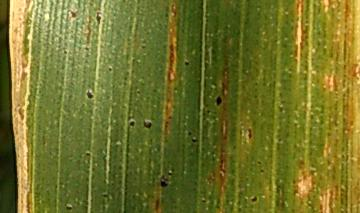tarspot: (211, 92, 225, 109), (247, 191, 260, 206), (83, 87, 95, 101), (93, 10, 104, 25), (156, 175, 168, 188), (142, 118, 153, 131), (67, 8, 78, 20), (126, 118, 137, 129), (63, 201, 74, 212), (165, 166, 178, 174), (190, 136, 199, 145), (182, 59, 192, 67), (84, 150, 92, 159), (185, 129, 193, 136)
